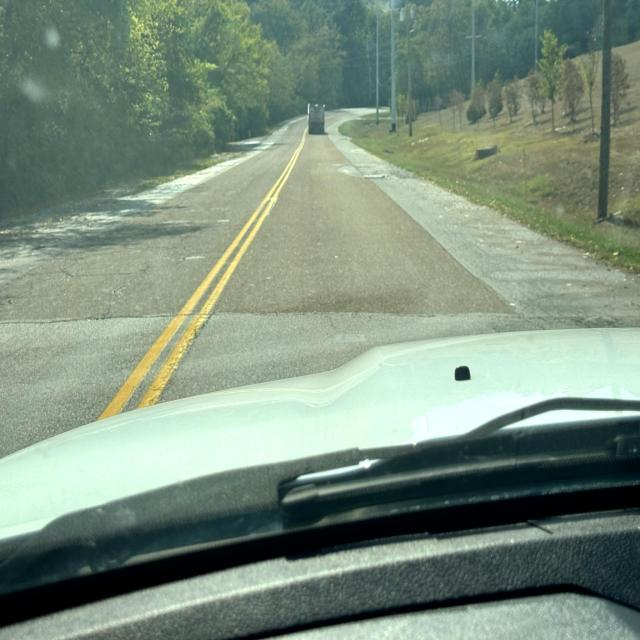pothole: (361, 169, 388, 182)
